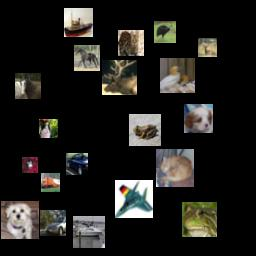airplane: (115, 180, 153, 218)
automobile: (40, 210, 66, 236), (66, 153, 88, 175)
bird: (160, 58, 195, 93), (154, 21, 176, 43)
cat: (156, 149, 194, 187), (118, 30, 144, 56), (39, 119, 58, 138), (22, 157, 38, 173)
deer: (102, 60, 137, 95), (198, 38, 217, 57)
dog: (1, 201, 39, 239), (184, 104, 213, 133)
frog: (182, 202, 217, 237), (129, 114, 161, 146)
ship: (73, 216, 105, 248), (64, 8, 93, 37)
truck: (41, 173, 60, 192)
